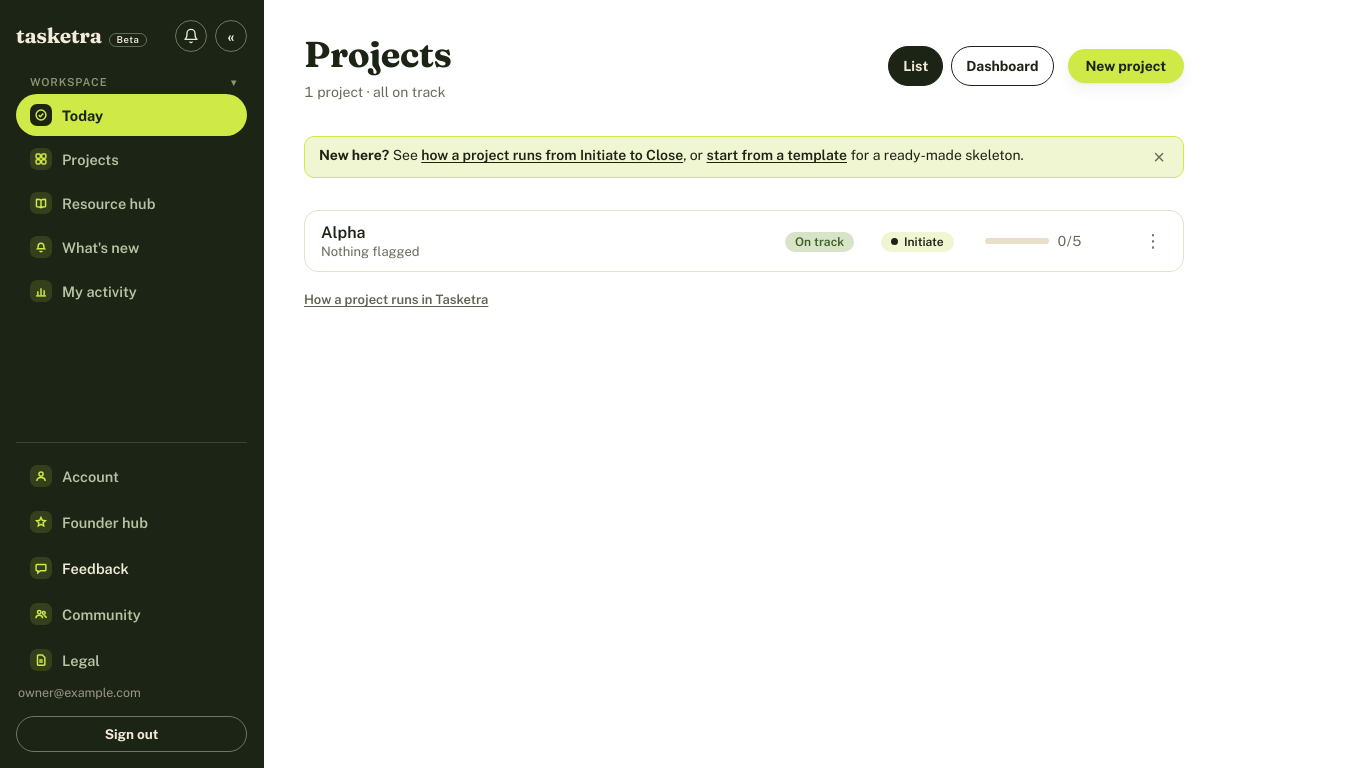
Test: Dashboard first run › keeps the full dashboard once a project has tasks
Expected: the heading "Projects" is shown, top-left (304, 32), bottom-right (452, 76)
Expected: the list item "Alpha Nothing flagged On track Initiate 0/5 ⋮" is shown, top-left (305, 211), bottom-right (1183, 271)
Click the button "Dashboard" at (1002, 66), box top-left (951, 46), bottom-right (1054, 86)
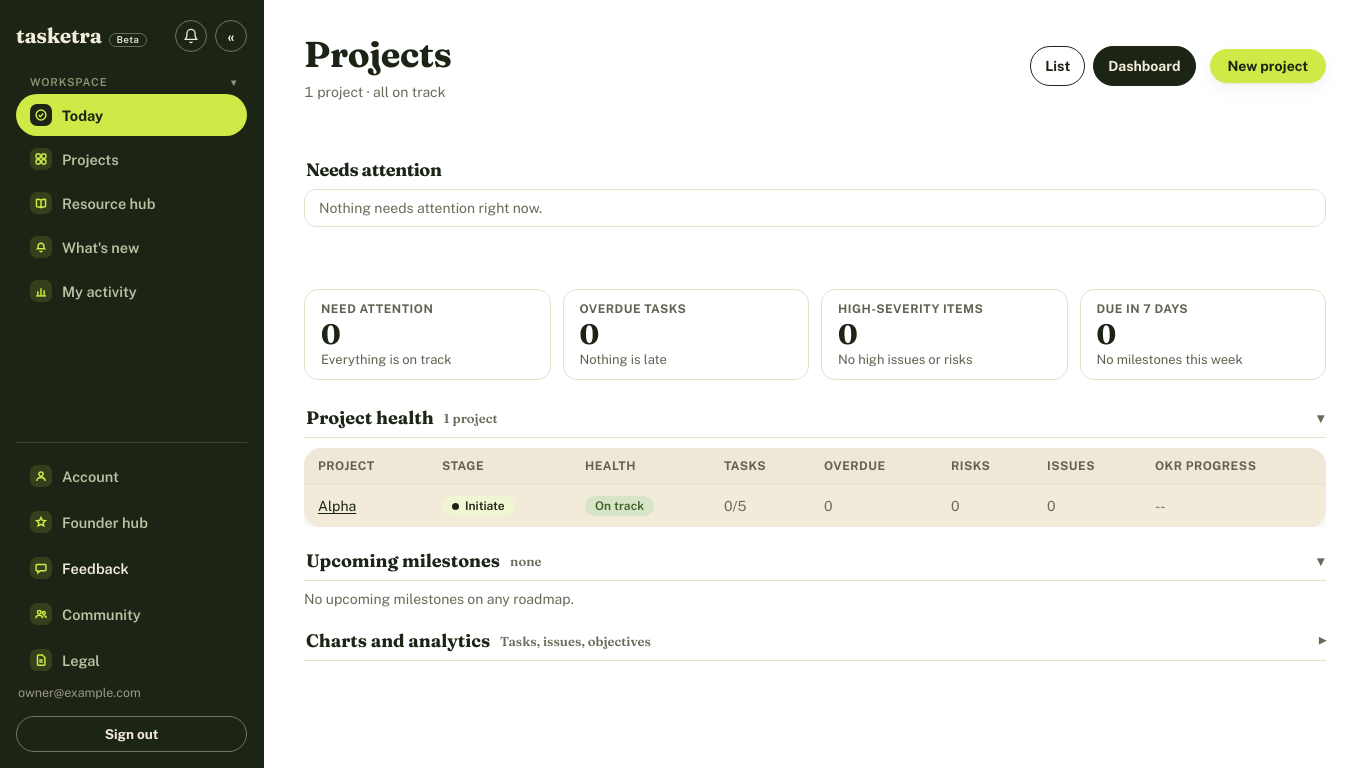
Expected: the button "New project" is shown, top-left (1210, 49), bottom-right (1326, 83)
Expected: the text "Charts and analytics" is shown, top-left (306, 629), bottom-right (490, 652)
Expected: the text "Project health" is shown, top-left (306, 406), bottom-right (434, 429)
